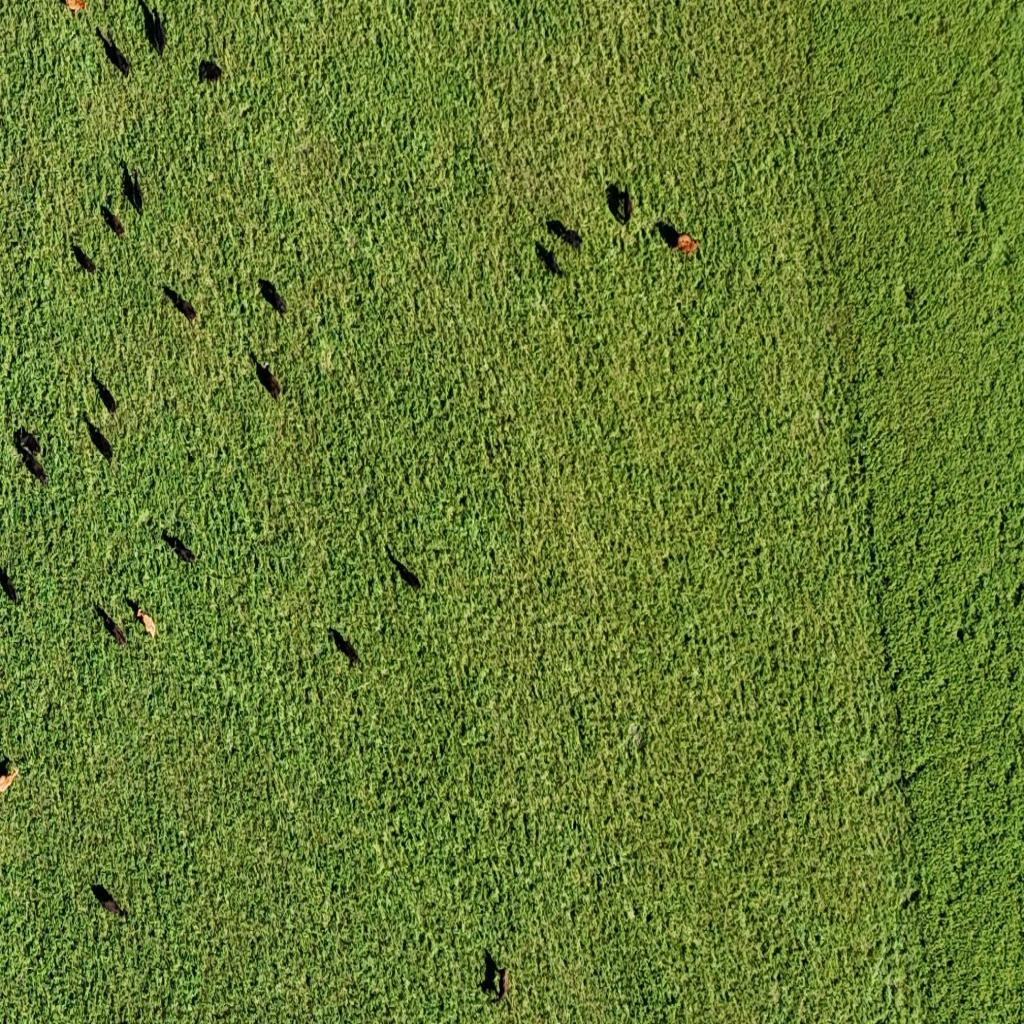cow: (10, 433, 47, 496), (98, 27, 132, 80), (136, 0, 165, 60), (656, 220, 701, 258), (89, 880, 129, 922), (387, 546, 424, 591), (94, 602, 130, 648), (483, 948, 512, 1004), (84, 418, 114, 466), (162, 285, 197, 324), (162, 528, 199, 564), (92, 372, 119, 421), (253, 360, 283, 404), (329, 628, 360, 669), (546, 218, 584, 250), (258, 278, 288, 318), (607, 182, 633, 225), (69, 243, 98, 278), (0, 754, 22, 796), (136, 602, 158, 644), (0, 562, 20, 606), (102, 204, 125, 240), (131, 171, 146, 217), (198, 60, 222, 86), (546, 249, 564, 283)
